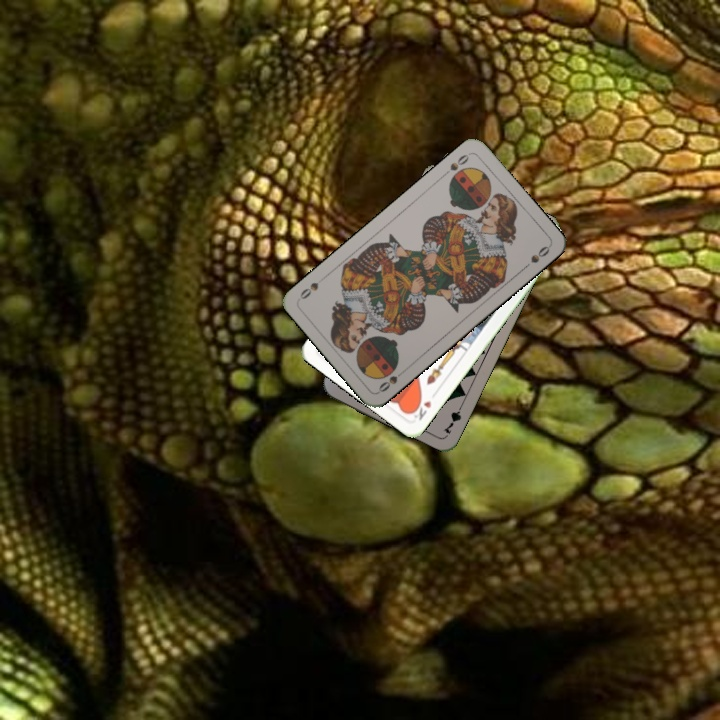G7: (439, 398, 466, 437)
HK: (407, 394, 434, 423)
SO: (374, 365, 409, 395), (438, 150, 472, 179)
